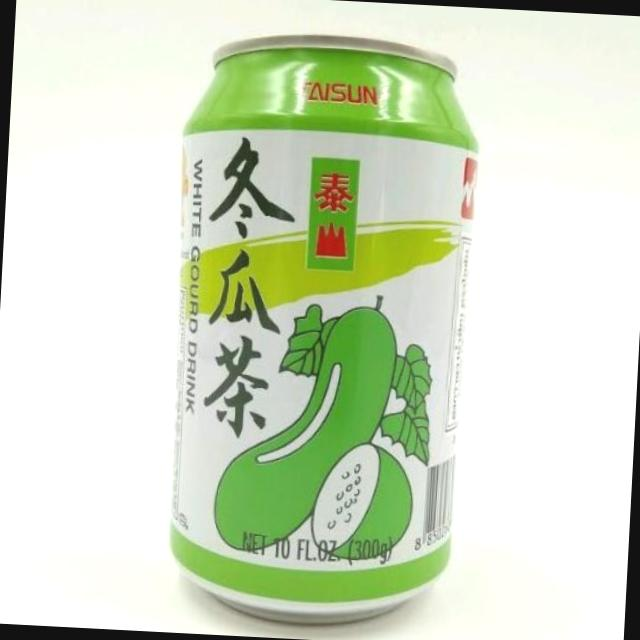can: (157, 24, 486, 634)
